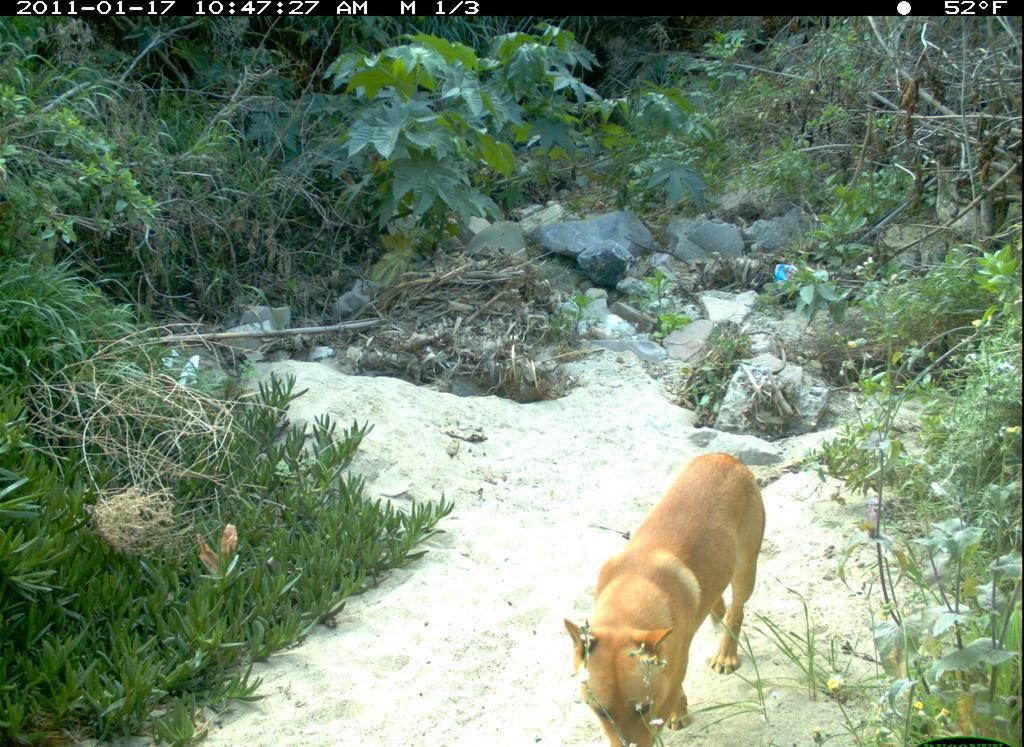dog: (533, 438, 777, 745)
